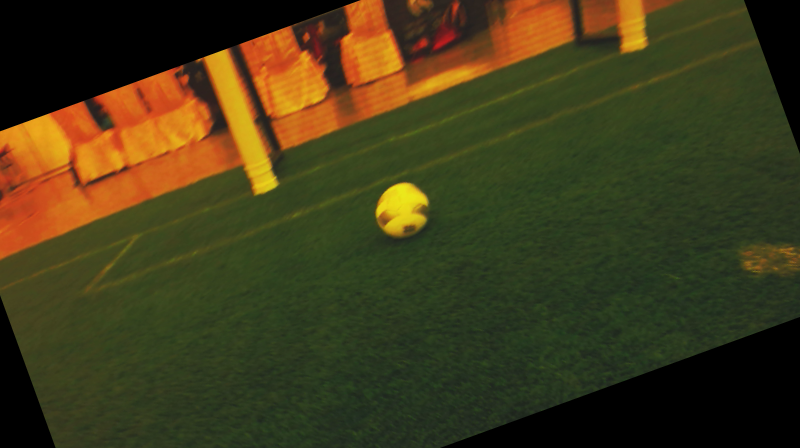post: (227, 150, 294, 202), (602, 8, 668, 58)
